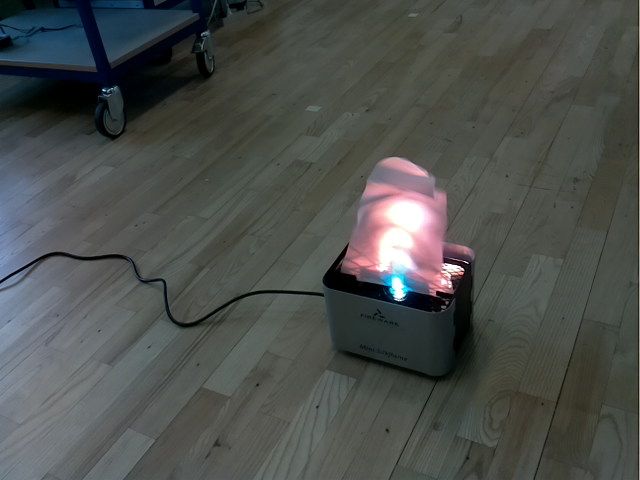fire: (340, 157, 455, 297)
